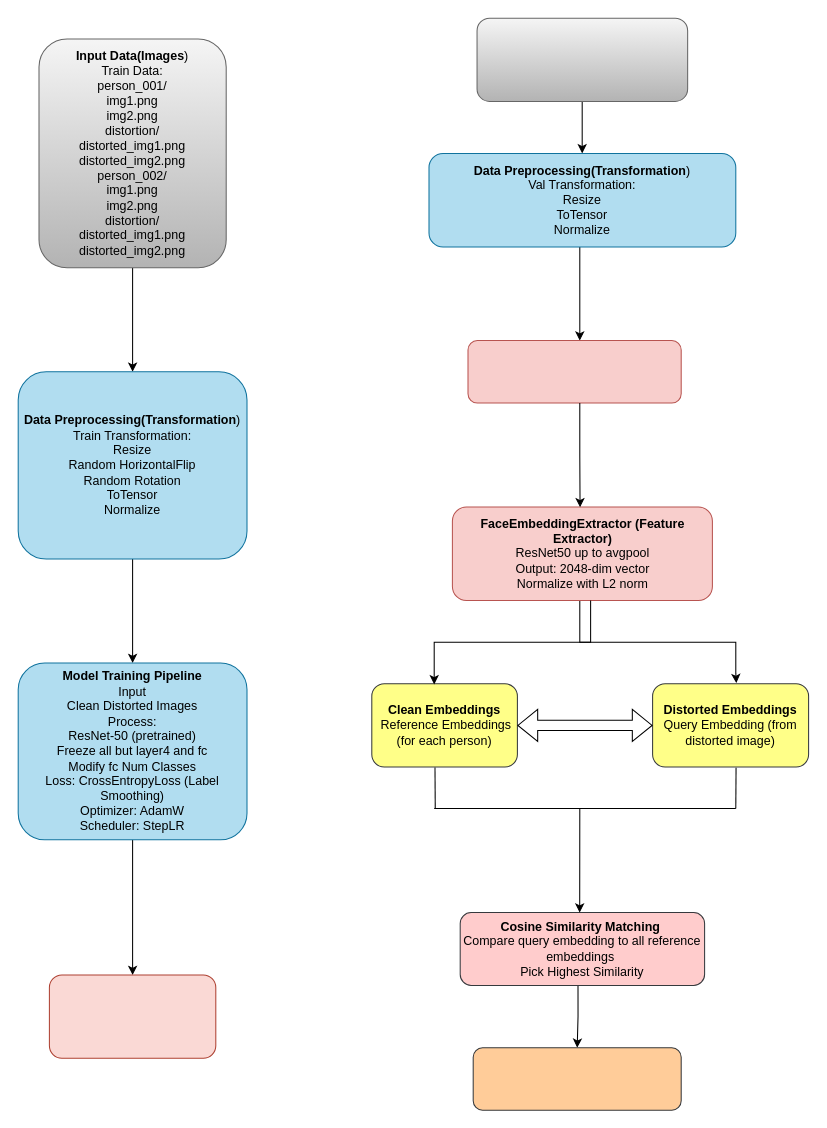
Image size: 827x1128. Some labels were removed from this diagram. The centre of each missing label's shape, as x and y in pixels:
"Input Data(Images) Val Data: Similar to Train Data" goes at (582,59).
"Output Model Weights: Save the Model as face_recognition_model.pt" goes at (132,1016).
"Prediction Most similar Person Evaluate Accuracy, Precision etc." goes at (576,1078).
"Trained ResNet-50 Model (Drop final FC layer after training)" goes at (574,371).
